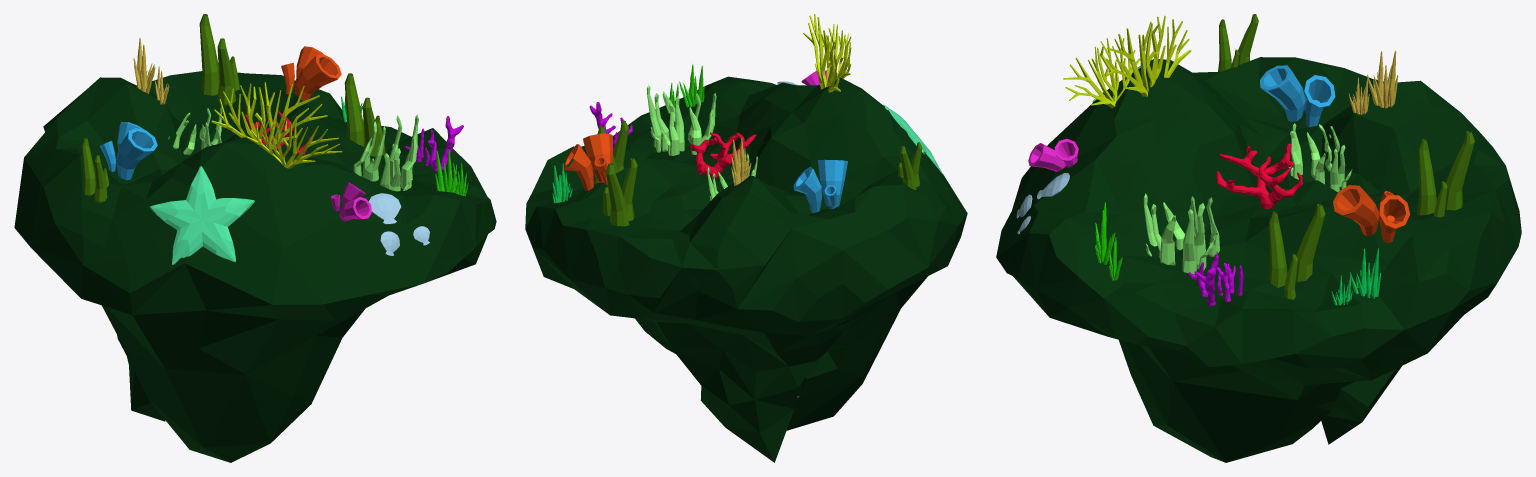
The model's file is newCoral.gltf.
3 views of the same model, side by side, from view 1: azimuth 30°, elevation 25°; view 2: azimuth 150°, elevation 25°; view 3: azimuth 270°, elevation 25° (orthographic). The views are drawn at different scales.
Parts seen in each view (by area): view 1: Rock, kelp, starfish, coral2, Coral.001, Coral.005, Coral.004, shells, Coral.006, seaweed3, coral1, seaweed (+1 smaller); view 2: Rock, kelp, Coral.001, coral2, Coral.004, Coral.005, Coral.003, seaweed, seaweed3, seaweed2, starfish; view 3: Rock, kelp, coral2, Coral.001, Coral.004, Coral.005, Coral.003, Coral.002, seaweed3, coral1, Coral.006, seaweed2 (+2 smaller).
Part boxes in pixels (x1,y1,x2,y2): Rock: (14, 71, 496, 462); kelp: (81, 14, 385, 203); starfish: (149, 166, 254, 264); coral2: (211, 82, 342, 168); Coral.001: (353, 114, 418, 191); Coral.005: (281, 46, 341, 103); Coral.004: (100, 121, 157, 180); shells: (368, 193, 429, 255); Coral.006: (331, 181, 371, 221); seaweed3: (133, 37, 169, 104); coral1: (404, 116, 463, 171); seaweed: (435, 150, 468, 196); Rock: (525, 76, 967, 462); kelp: (594, 120, 922, 226); Coral.001: (646, 84, 799, 397); coral2: (803, 14, 851, 92); Coral.004: (793, 159, 847, 213); Coral.005: (563, 133, 612, 191); Coral.003: (690, 132, 756, 179); seaweed: (662, 64, 704, 113); seaweed3: (731, 137, 751, 185); seaweed2: (552, 163, 572, 203); starfish: (882, 104, 942, 174); Rock: (996, 57, 1521, 462); kelp: (1218, 14, 1474, 299); coral2: (1063, 15, 1191, 108); Coral.001: (1143, 193, 1219, 274); Coral.004: (1260, 65, 1335, 127); Coral.005: (1333, 185, 1409, 242); Coral.003: (1216, 143, 1302, 208); Coral.002: (1288, 123, 1352, 191); seaweed3: (1348, 50, 1398, 114); coral1: (1188, 254, 1243, 305); Coral.006: (1028, 138, 1078, 171); seaweed2: (1331, 248, 1381, 305).
Size of the model in its own units: 2.95 by 2.71 by 2.92.
